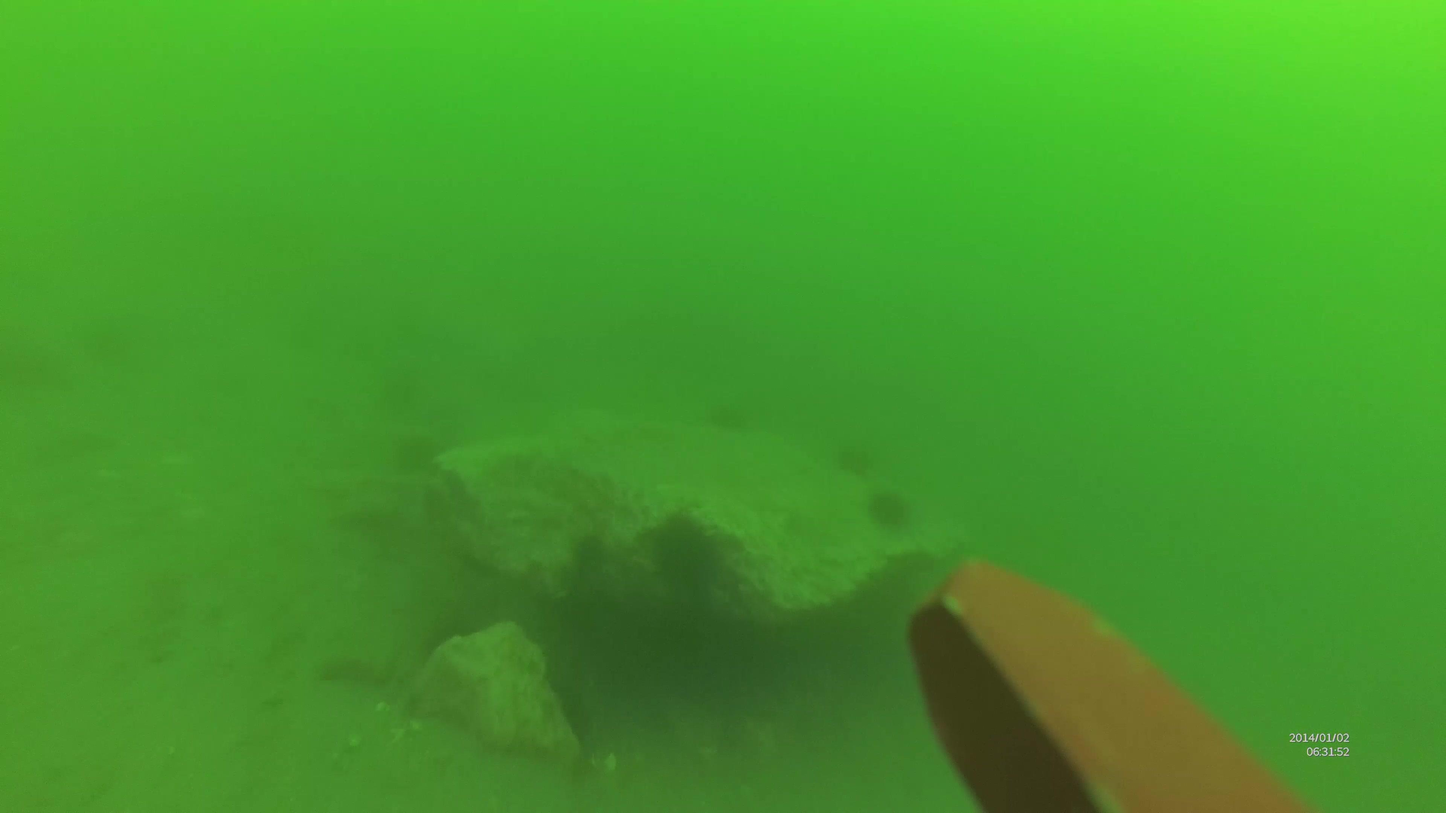starfish: (644, 510, 747, 605), (869, 493, 910, 532)
